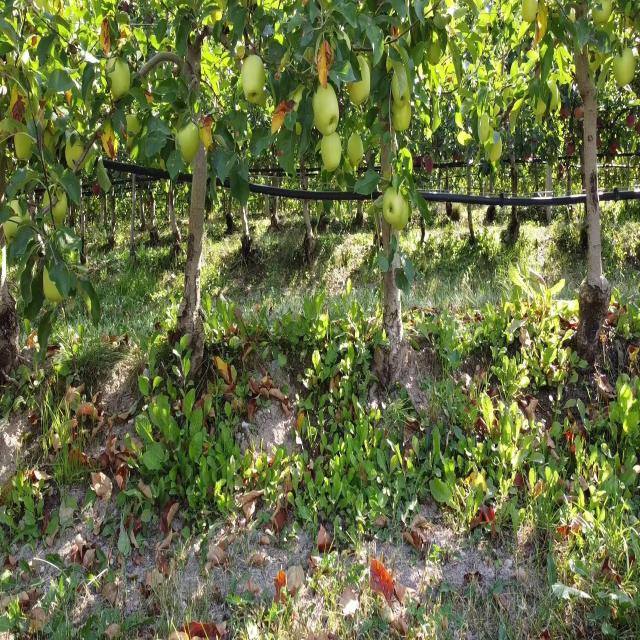apple: (244, 56, 267, 105), (316, 92, 340, 135), (616, 49, 636, 89), (180, 127, 200, 164), (112, 63, 132, 100), (348, 78, 372, 107), (320, 42, 335, 85), (392, 106, 412, 135), (244, 78, 264, 107), (324, 135, 340, 171), (384, 191, 401, 222), (348, 135, 364, 164), (320, 56, 333, 91), (56, 199, 68, 224), (128, 113, 141, 135), (12, 99, 24, 121), (204, 120, 213, 149), (108, 135, 117, 162), (428, 49, 440, 68), (236, 42, 247, 62), (276, 511, 287, 530), (120, 28, 131, 46), (256, 92, 268, 108), (560, 106, 571, 121), (402, 156, 413, 171), (276, 28, 284, 46), (212, 14, 223, 27), (216, 362, 227, 375), (436, 71, 446, 85), (480, 504, 487, 524), (488, 504, 496, 521), (400, 149, 412, 160), (456, 113, 464, 128), (296, 120, 304, 135), (516, 476, 524, 491), (628, 113, 636, 128), (576, 106, 584, 121), (268, 455, 276, 469), (32, 35, 39, 50), (92, 184, 100, 197), (424, 113, 432, 126), (448, 63, 456, 75), (464, 135, 471, 146), (452, 78, 459, 89), (428, 163, 434, 174), (460, 135, 465, 148), (68, 92, 72, 107), (636, 120, 640, 135), (456, 99, 463, 107), (436, 120, 443, 128), (276, 21, 281, 32), (312, 469, 316, 482), (232, 327, 239, 334), (473, 478, 475, 482)
